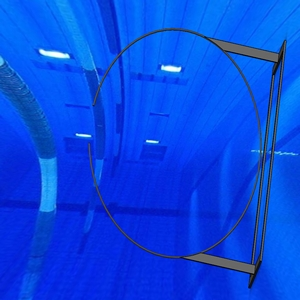circle: (88, 26, 287, 289)
